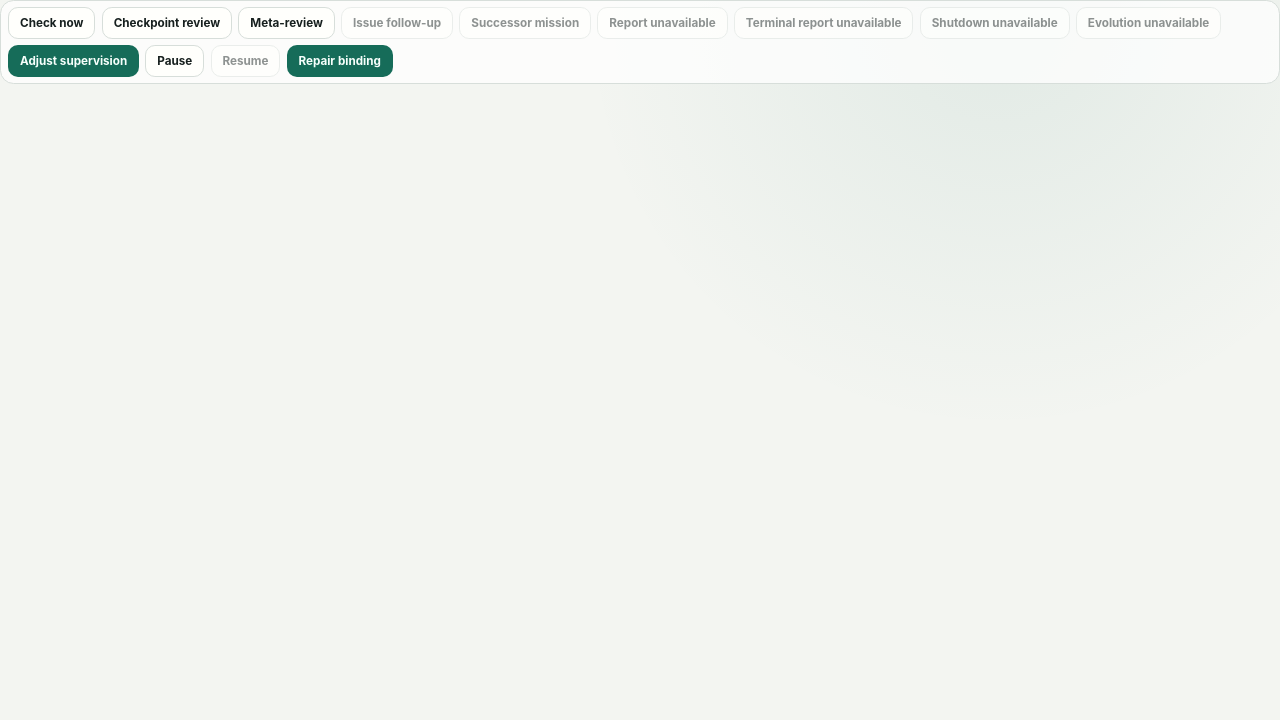
Factory workflow action strips › offers one missing-mission binding repair without operator-supplied identity fields
Click the button "Repair binding" at (340, 61), box [287, 45, 393, 77]
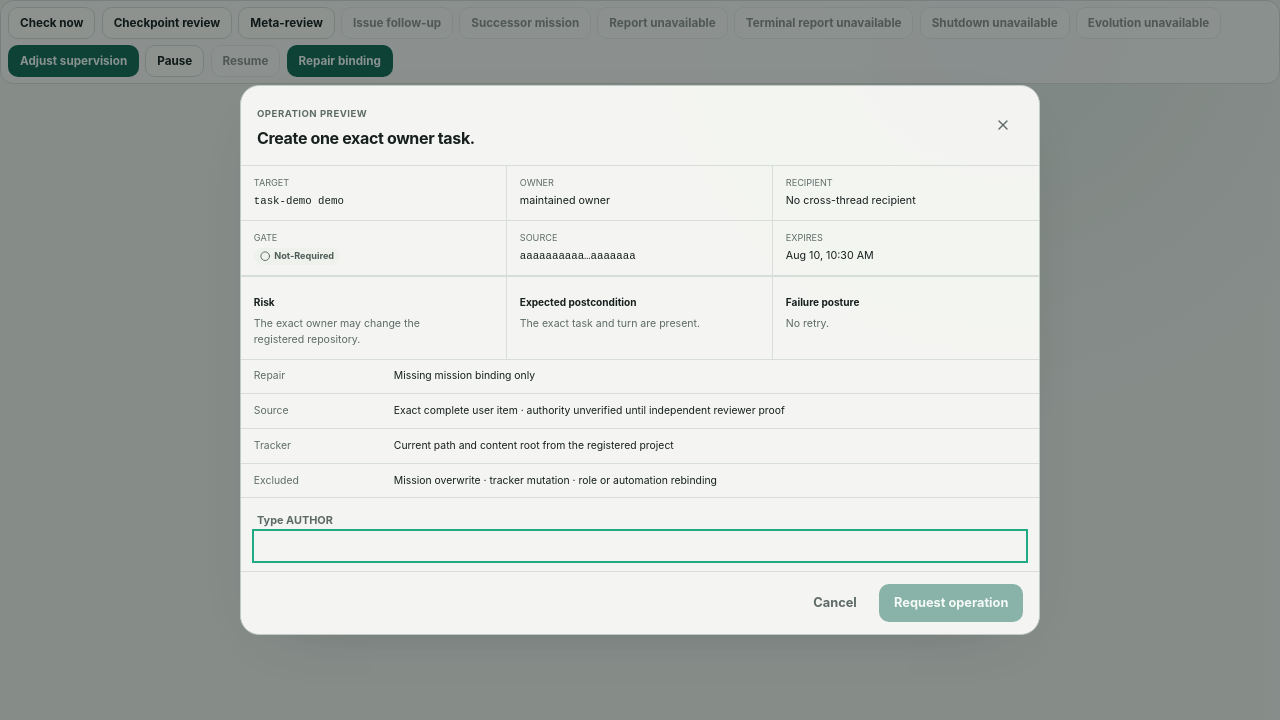
Now the text "Missing mission binding only" is shown, box [394, 369, 535, 382]
Now the text "authority unverified until independent reviewer proof" is shown, box [394, 404, 785, 417]
Now the text "Mission overwrite" is shown, box [394, 474, 717, 486]
